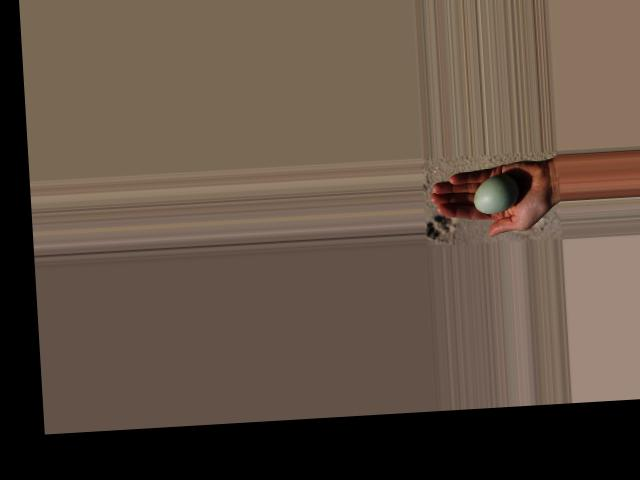egg: (472, 173, 519, 213)
